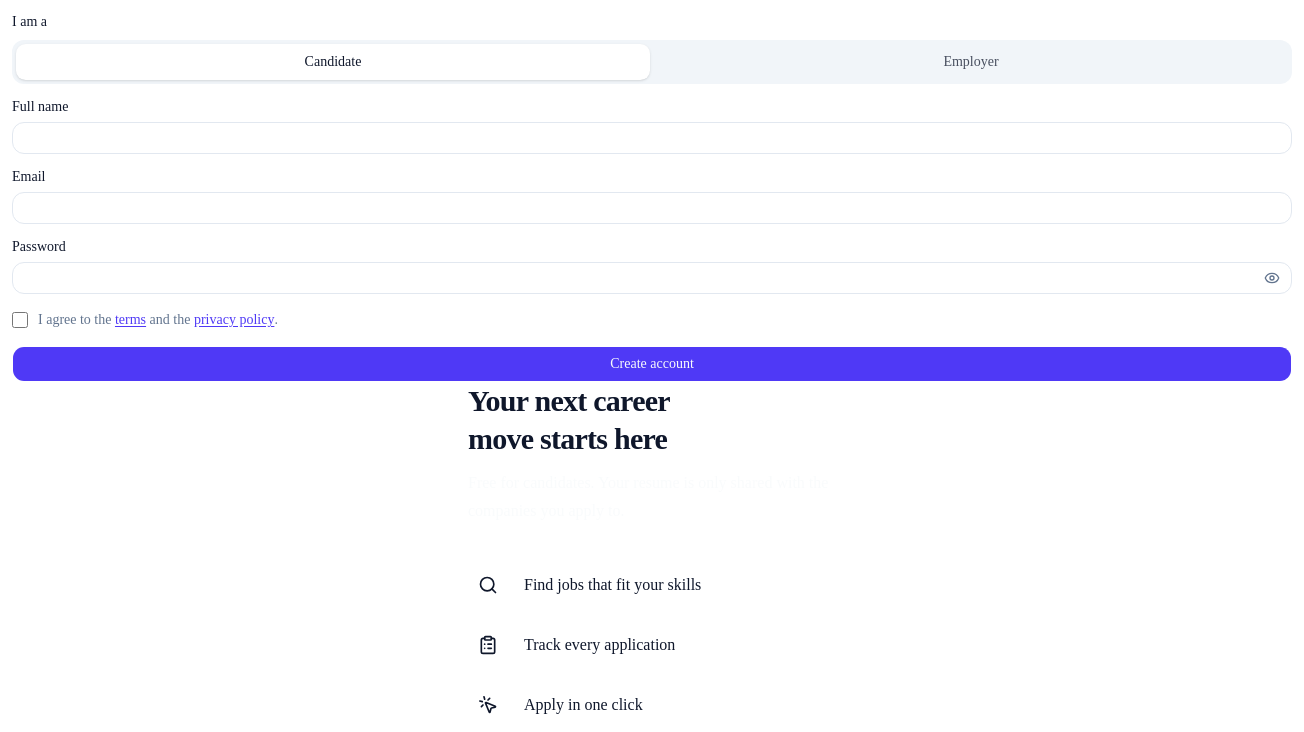
sign up role toggle › changes the panel benefits with the selected role
The width and height of the screenshot is (1304, 732).
Expected: the text "Find jobs that fit your skills" is shown, [524,573,701,597]
Click the radio button labelled "Employer" at (971, 62), box [943,54,999,69]
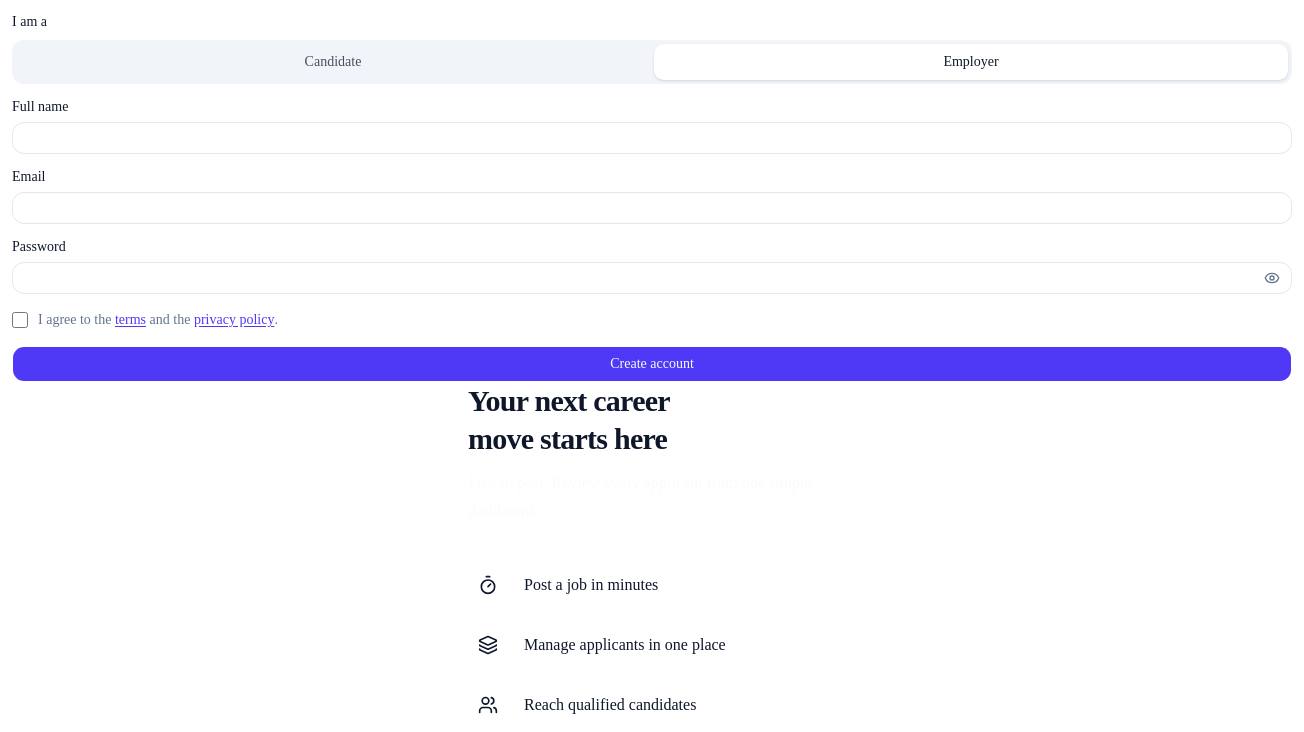
Expected: the text "Post a job in minutes" is shown, [524,573,658,597]
Expected: the text "Find jobs that fit your skills" is gone
Click the radio button labelled "Candidate" at (333, 62), box [305,54,361,69]
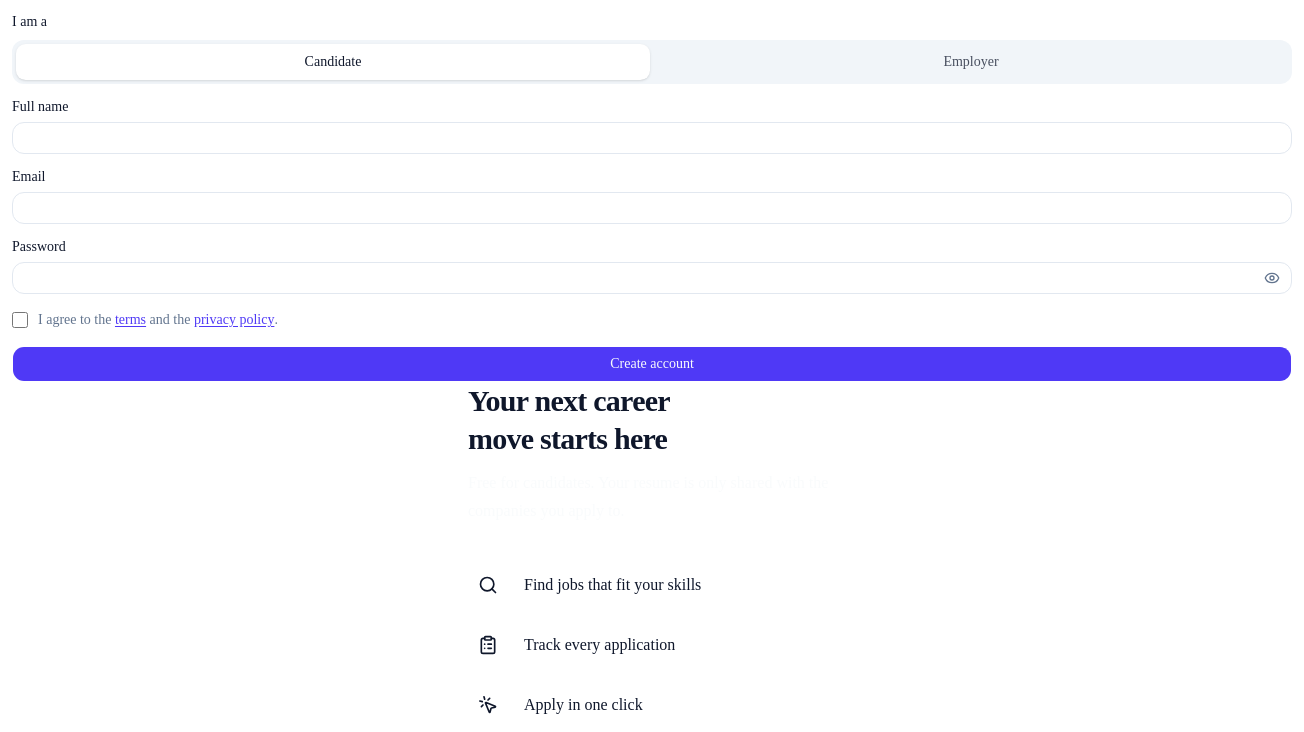
Expected: the text "Find jobs that fit your skills" is shown, [524,573,701,597]
